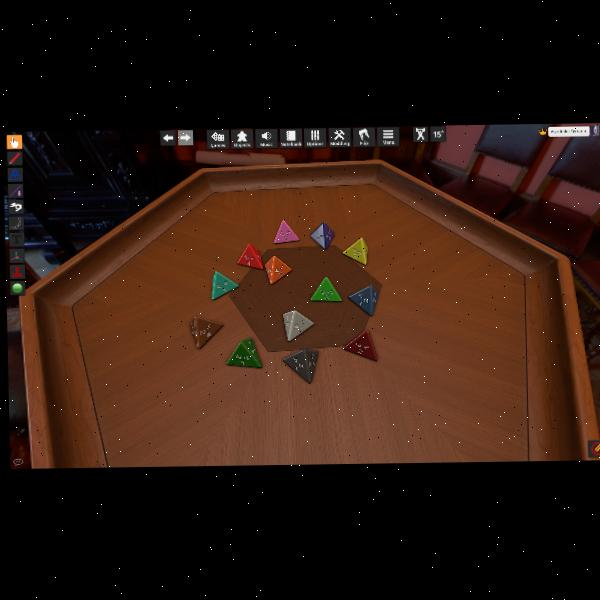d4: (283, 348, 320, 383), (343, 330, 377, 362), (282, 308, 314, 341), (226, 339, 262, 368), (348, 285, 380, 316), (190, 316, 219, 348), (264, 255, 290, 285), (311, 277, 342, 302), (212, 270, 237, 300), (237, 243, 264, 270), (342, 237, 367, 265), (310, 221, 335, 249), (273, 219, 299, 245)
